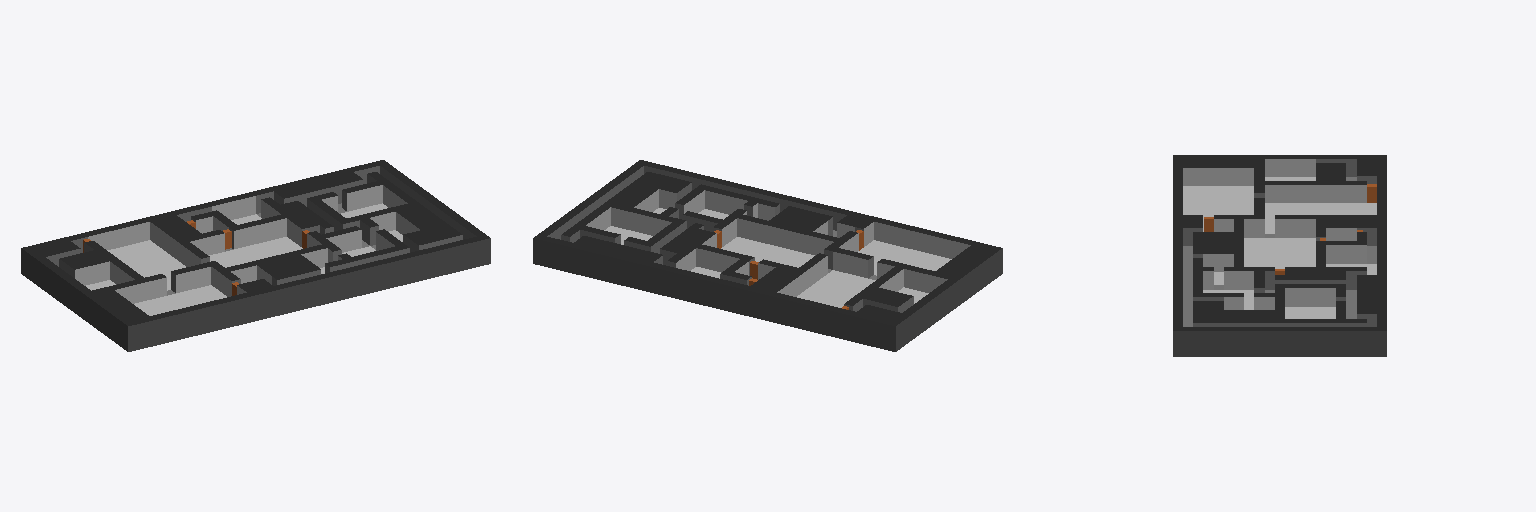
The model's file is dungeon.obj.
3 renders of one model, left to right at view 1: azimuth 30°, elevation 25°; view 2: azimuth 150°, elevation 25°; view 3: azimuth 270°, elevation 25°, orthographic.
Bounding box in the file's own units: 82 × 5.6 × 42.